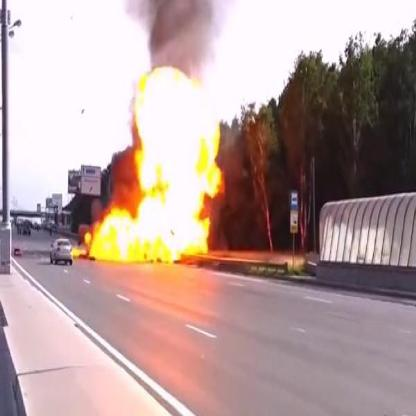fire: (89, 60, 229, 266), (70, 240, 87, 264)
